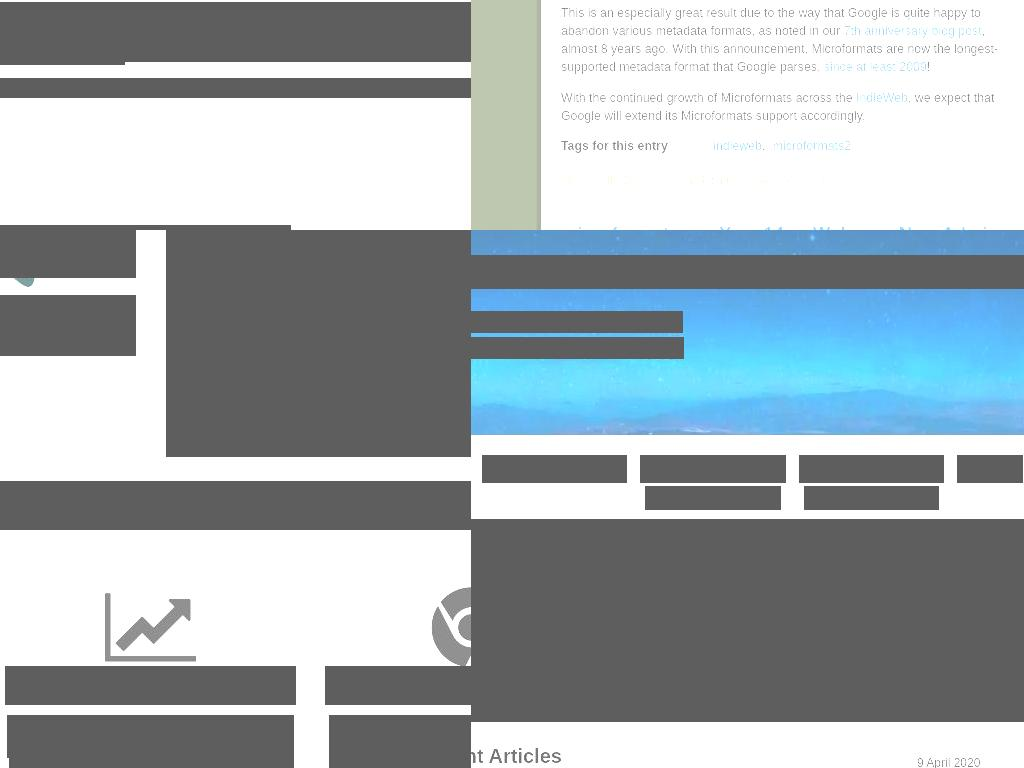button: (471, 519, 876, 722), (876, 519, 1024, 722), (876, 519, 1024, 722), (876, 519, 1024, 722), (876, 519, 1024, 722), (0, 2, 125, 65), (640, 455, 786, 483), (799, 455, 944, 483), (917, 602, 1024, 638), (917, 687, 1024, 723), (843, 24, 982, 40), (561, 169, 654, 192), (659, 169, 745, 192), (750, 169, 834, 192), (823, 60, 927, 76), (772, 138, 851, 154), (856, 90, 909, 106), (713, 138, 763, 154)
field: (0, 481, 471, 530), (482, 455, 627, 483), (645, 486, 781, 510), (804, 486, 939, 510), (957, 455, 1023, 483)
heading: (5, 666, 296, 705), (0, 230, 136, 278), (325, 666, 471, 705), (561, 222, 1009, 230), (917, 539, 1024, 569), (471, 745, 567, 767), (561, 138, 668, 153)
image: (471, 519, 876, 722), (166, 230, 471, 457), (876, 519, 1024, 722), (876, 519, 1024, 722), (876, 519, 1024, 722), (876, 519, 1024, 722), (0, 2, 471, 62), (766, 456, 785, 482), (924, 456, 943, 482), (665, 173, 682, 190), (599, 698, 607, 705)
link: (917, 689, 1024, 721), (891, 577, 1024, 595), (891, 617, 973, 635), (891, 597, 957, 615), (891, 617, 939, 635)
text: (561, 24, 998, 75), (471, 255, 1024, 289), (561, 90, 994, 123), (561, 6, 981, 39), (7, 715, 294, 758), (471, 637, 787, 675), (891, 597, 1024, 675), (0, 78, 471, 98), (0, 295, 136, 356), (9, 740, 294, 768), (891, 617, 1024, 675), (329, 715, 471, 768), (891, 637, 1024, 675), (891, 637, 1024, 675), (471, 337, 684, 359), (471, 311, 683, 333), (561, 90, 856, 105), (351, 715, 458, 733), (651, 461, 749, 479), (810, 461, 907, 479), (567, 174, 647, 187), (917, 671, 987, 685), (917, 586, 986, 600), (681, 174, 740, 187), (917, 756, 980, 768), (232, 738, 261, 759), (761, 138, 769, 153), (926, 60, 930, 75)
